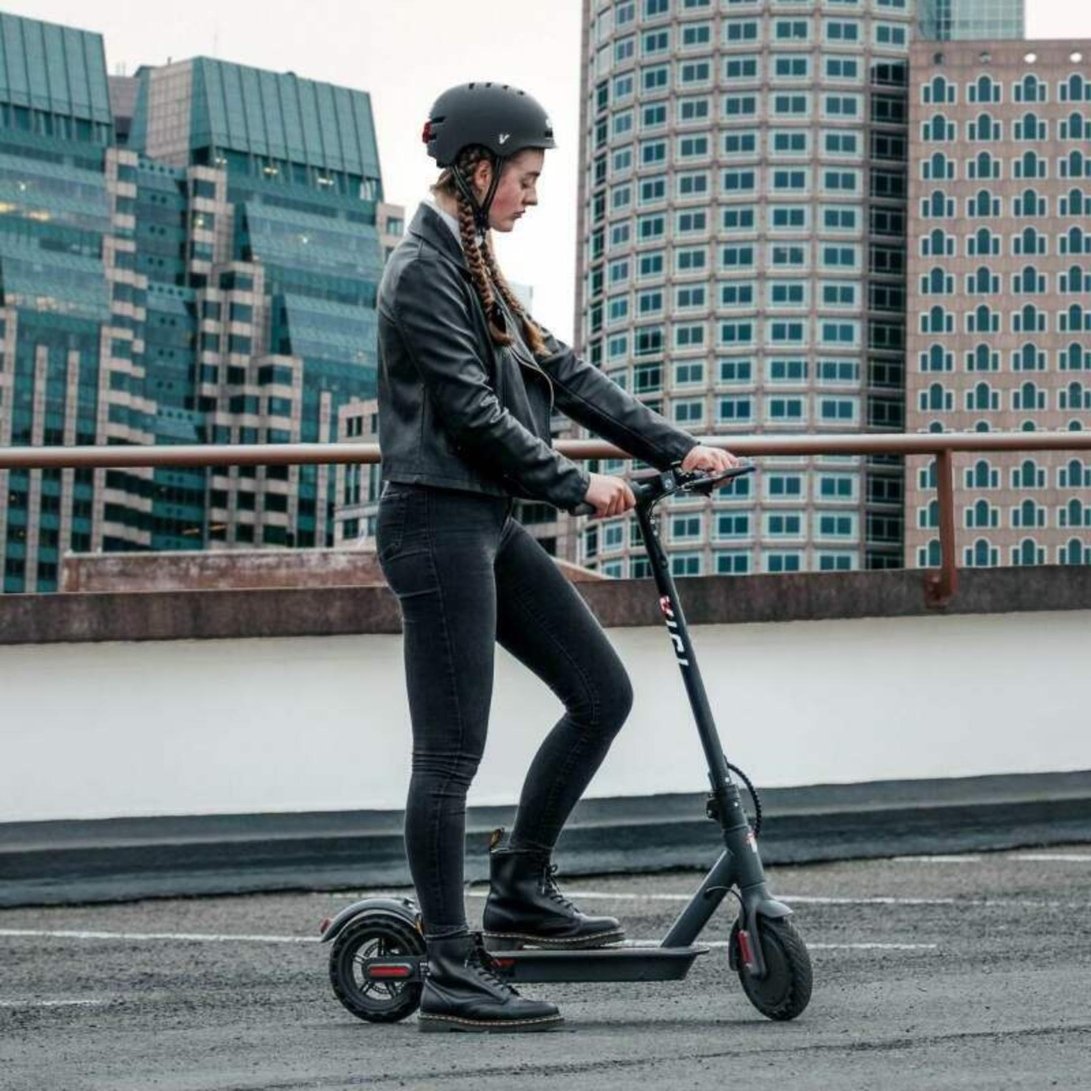helmet: (418, 69, 569, 248)
human: (376, 73, 646, 1033)
kickboard: (307, 900, 815, 1024)
